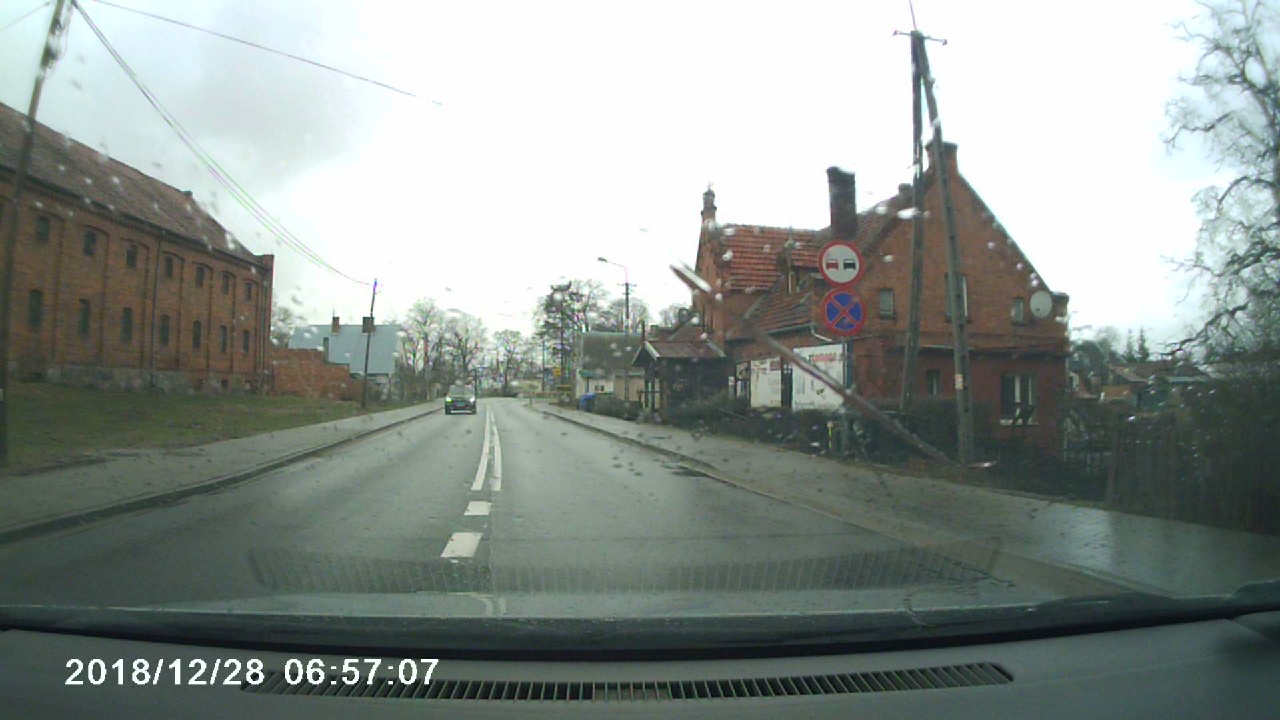B25: (815, 237, 868, 287)
B35: (815, 289, 874, 340)
